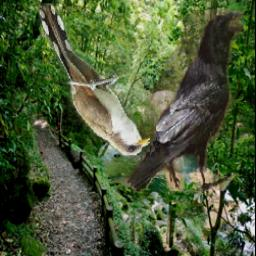Crow: (125, 11, 244, 192)
Cuckoo: (38, 3, 150, 155)
